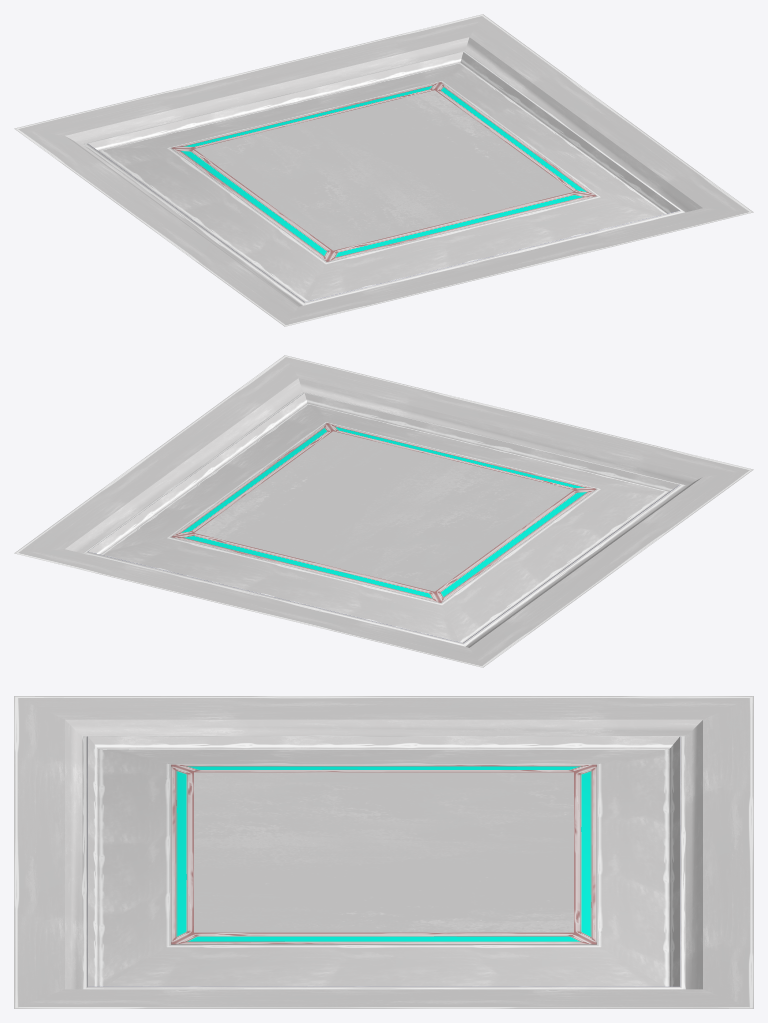
File: Ceiling3x3Minimal.fbx
3 views of the same model, one above another, from view 1: azimuth 30°, elevation 25°; view 2: azimuth 150°, elevation 25°; view 3: azimuth 270°, elevation 25° (orthographic). The views are drawn at different scales.
Visible parts, largest first — view 1: Ceiling3x3Minimal; view 2: Ceiling3x3Minimal; view 3: Ceiling3x3Minimal.
Boxes of the visible parts, bbox=[...] form: Ceiling3x3Minimal: bbox=[14, 14, 753, 326]; Ceiling3x3Minimal: bbox=[14, 355, 753, 667]; Ceiling3x3Minimal: bbox=[14, 696, 753, 1008].
Bounding box in the file's own units: 600 × 15.33 × 600.
